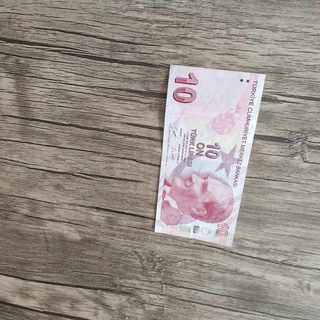10TLFront: (152, 63, 267, 248)
